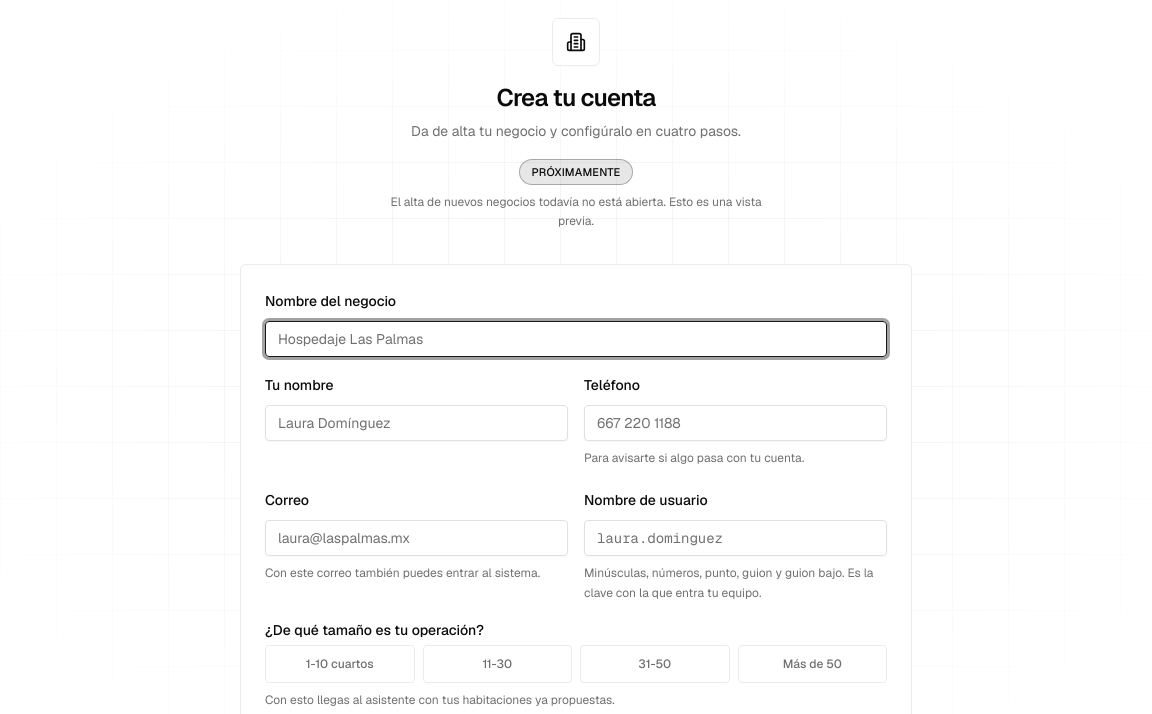
Test: formulario de registro › un clic completa el correo y las sugerencias se retiran
Type "efrainleyva240" into the field labelled "Correo" at (416,538), box top-left (265, 520), bottom-right (568, 556)
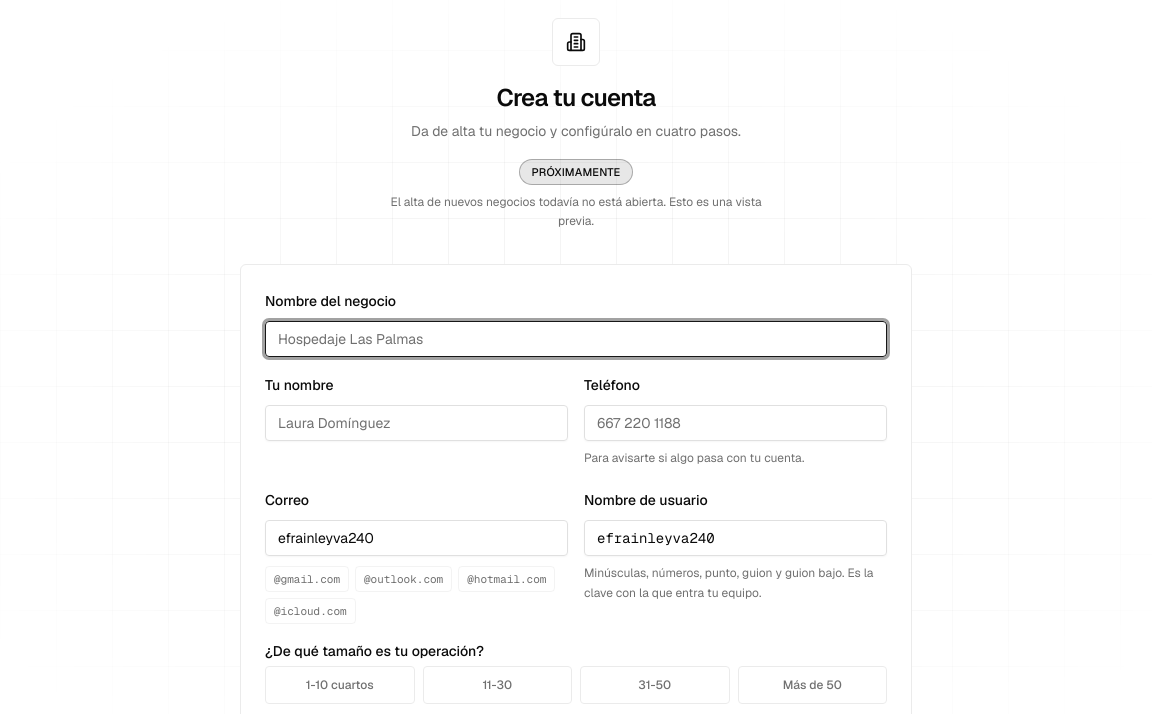
Click the button "@gmail.com" at (307,579), box top-left (265, 566), bottom-right (349, 592)
(page scrolled)
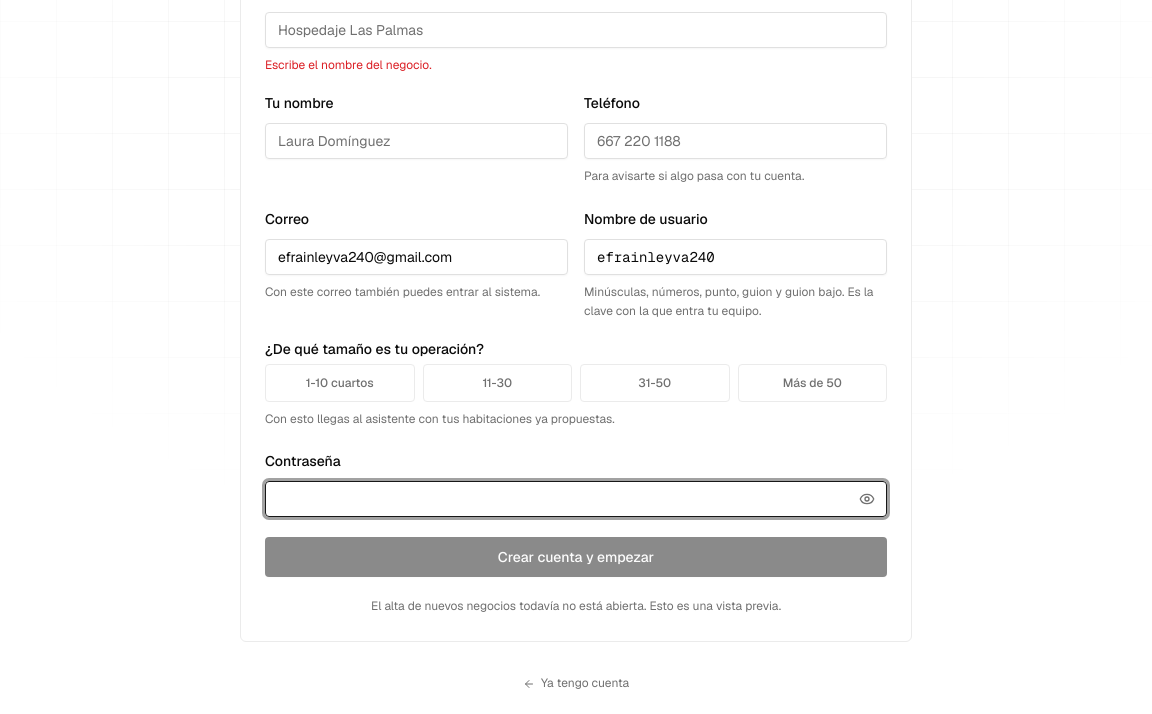
Check: the field labelled "Correo" holds "efrainleyva240@gmail.com", box top-left (265, 239), bottom-right (568, 275)
